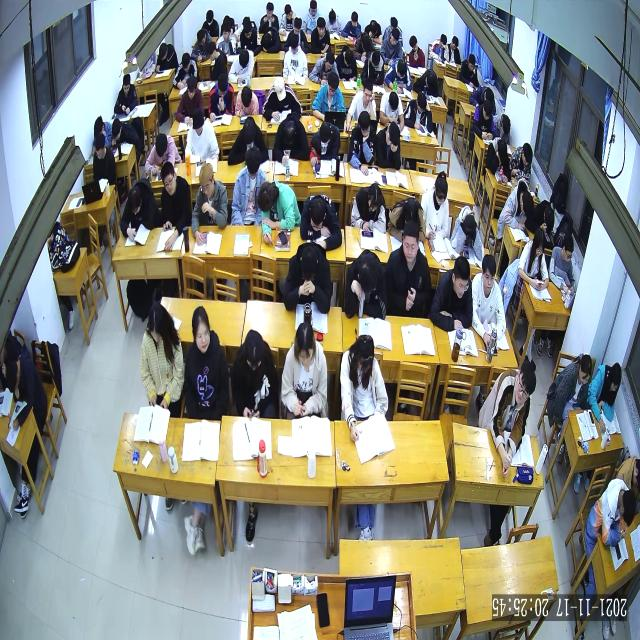bow: (256, 178, 302, 246), (298, 190, 342, 250), (120, 176, 158, 242), (271, 111, 311, 168), (225, 114, 268, 166), (450, 204, 488, 260), (262, 74, 302, 125), (386, 194, 426, 244), (142, 131, 182, 178), (498, 178, 534, 230), (306, 49, 338, 87), (384, 56, 412, 94), (528, 198, 556, 234), (110, 116, 140, 148), (413, 68, 439, 100), (468, 85, 496, 113), (350, 27, 374, 59), (156, 42, 178, 72), (260, 24, 282, 52), (362, 15, 382, 42)
down: (5, 344, 48, 432), (294, 321, 316, 369), (243, 328, 266, 372), (357, 253, 379, 296), (147, 301, 167, 347), (354, 334, 374, 376), (452, 252, 470, 298), (257, 179, 279, 213), (618, 487, 636, 527), (298, 245, 318, 281), (198, 160, 215, 199), (308, 194, 326, 230), (245, 146, 262, 182), (433, 172, 449, 207), (6, 354, 21, 390), (126, 186, 142, 218), (578, 352, 592, 388), (240, 116, 256, 147), (367, 180, 383, 211), (463, 212, 478, 243), (608, 362, 622, 394), (280, 118, 296, 146), (384, 118, 400, 146), (533, 228, 547, 260), (192, 107, 206, 137), (520, 190, 535, 218), (358, 109, 372, 138), (273, 73, 287, 101), (326, 70, 340, 98), (154, 130, 168, 158), (562, 234, 574, 264), (94, 134, 106, 162), (186, 72, 198, 100), (216, 70, 228, 98), (386, 88, 400, 112), (318, 120, 332, 144), (496, 136, 508, 164), (522, 142, 534, 170), (362, 78, 374, 105), (110, 116, 122, 142), (542, 206, 554, 232), (240, 85, 252, 109), (416, 88, 428, 112), (388, 24, 401, 46), (238, 48, 250, 71), (288, 32, 300, 55), (322, 48, 334, 70), (342, 47, 354, 69), (397, 56, 408, 80), (371, 48, 382, 71), (157, 42, 169, 62), (425, 69, 437, 89), (483, 96, 493, 120), (182, 48, 192, 71), (122, 72, 132, 94), (243, 17, 253, 39), (316, 16, 326, 38), (361, 34, 372, 54), (501, 113, 511, 135), (282, 2, 294, 20), (208, 41, 218, 62), (196, 26, 206, 46), (222, 21, 232, 41), (293, 17, 303, 37), (350, 10, 360, 29), (369, 18, 379, 36), (409, 35, 419, 53), (468, 50, 477, 70), (328, 8, 337, 26), (310, 0, 318, 18), (451, 35, 459, 52), (206, 10, 214, 26), (438, 34, 446, 50)
lookup: (514, 356, 537, 408), (191, 305, 212, 357), (400, 220, 420, 264), (159, 162, 177, 198), (481, 253, 496, 295), (266, 2, 276, 21)
sit: (480, 358, 538, 478), (181, 305, 229, 423), (138, 296, 186, 414), (339, 332, 388, 442), (280, 317, 330, 417), (384, 216, 432, 320), (228, 326, 280, 418), (582, 476, 636, 550), (282, 237, 332, 316), (190, 160, 230, 247), (343, 245, 388, 322), (431, 252, 474, 332), (471, 252, 506, 348), (158, 160, 192, 252), (230, 144, 268, 226), (547, 352, 593, 412), (588, 360, 623, 430), (418, 168, 451, 240), (184, 104, 220, 164), (518, 227, 550, 292), (347, 105, 377, 173), (349, 182, 386, 236), (312, 66, 348, 118), (344, 78, 376, 134), (308, 116, 342, 168), (548, 230, 576, 290), (175, 74, 205, 126), (207, 70, 235, 122), (376, 120, 402, 172), (486, 133, 512, 185), (404, 88, 434, 132), (92, 130, 116, 182), (281, 30, 309, 74), (378, 88, 406, 132), (508, 142, 534, 186), (172, 48, 200, 88), (472, 96, 496, 140), (114, 70, 138, 114), (228, 48, 255, 86), (204, 38, 228, 80), (233, 82, 260, 118), (236, 17, 262, 54), (381, 23, 403, 65), (360, 48, 384, 86), (284, 17, 308, 53), (334, 42, 358, 78), (214, 17, 237, 54), (310, 16, 332, 54), (190, 26, 213, 62), (258, 1, 280, 36), (459, 52, 480, 88), (429, 30, 450, 64), (341, 9, 363, 41), (301, 1, 321, 35), (408, 34, 426, 70), (280, 2, 298, 36), (494, 112, 512, 144), (202, 6, 220, 34), (326, 6, 342, 34), (447, 34, 461, 64)
